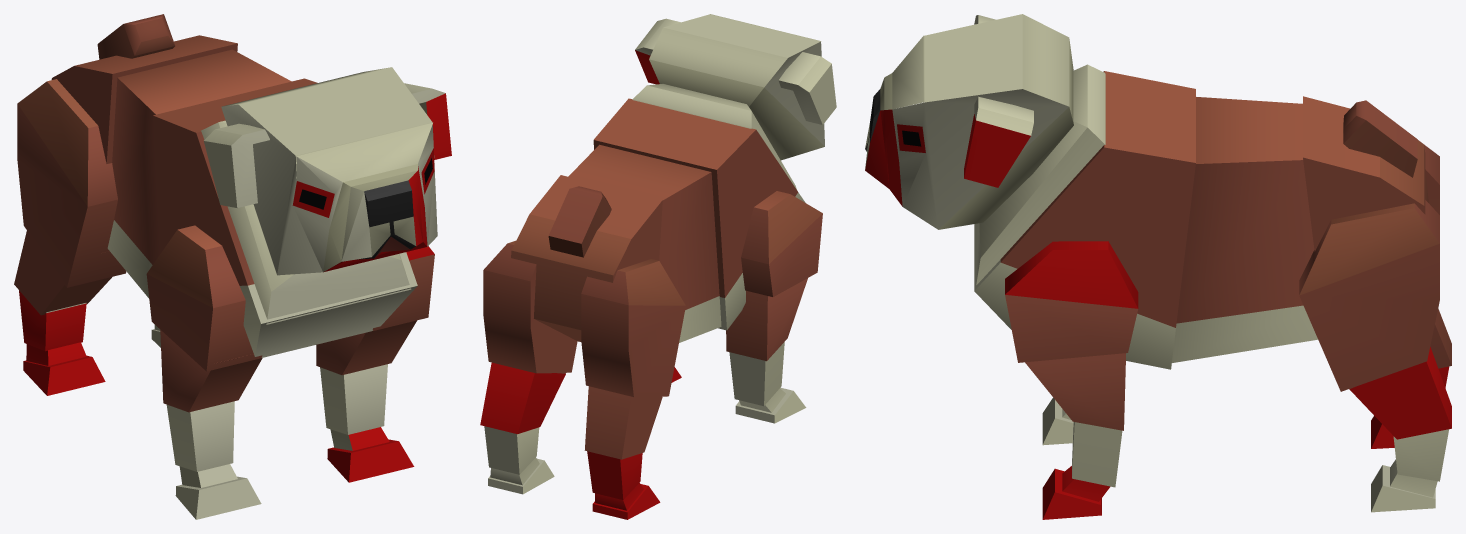
The model's file is zombie_dog_parts.glb.
3 views of the same model, side by side, from view 1: azimuth 30°, elevation 25°; view 2: azimuth 150°, elevation 25°; view 3: azimuth 270°, elevation 25° (orthographic). The views are drawn at different scales.
Parts seen in each view (by area): view 1: head, leg_right_2, body_1, leg_right_1, body_2, leg_left_1; view 2: body_2, leg_right_2, head, body_1, leg_left_2, leg_right_1; view 3: body_2, body_1, head, leg_left_2, leg_left_1, leg_right_2, leg_right_1.
Boxes of the visible parts, x1,y1,x2,y2 form: head: [204, 67, 451, 275]; leg_right_2: [14, 79, 126, 395]; body_1: [153, 78, 417, 357]; leg_right_1: [146, 225, 262, 519]; body_2: [51, 14, 291, 298]; leg_left_1: [316, 246, 434, 482]; body_2: [511, 144, 721, 342]; leg_right_2: [581, 259, 685, 519]; head: [635, 14, 836, 160]; body_1: [593, 84, 805, 330]; leg_left_2: [480, 240, 577, 494]; leg_right_1: [726, 191, 822, 423]; body_2: [1172, 96, 1428, 362]; body_1: [974, 64, 1195, 369]; head: [865, 14, 1073, 229]; leg_left_2: [1299, 200, 1451, 512]; leg_left_1: [1005, 241, 1138, 519]; leg_right_2: [1371, 140, 1451, 448]; leg_right_1: [1042, 397, 1073, 445].
Size of the model in its own units: 0.1029 by 0.184 by 0.2357.
Materials: 1 (1 with a texture image).
